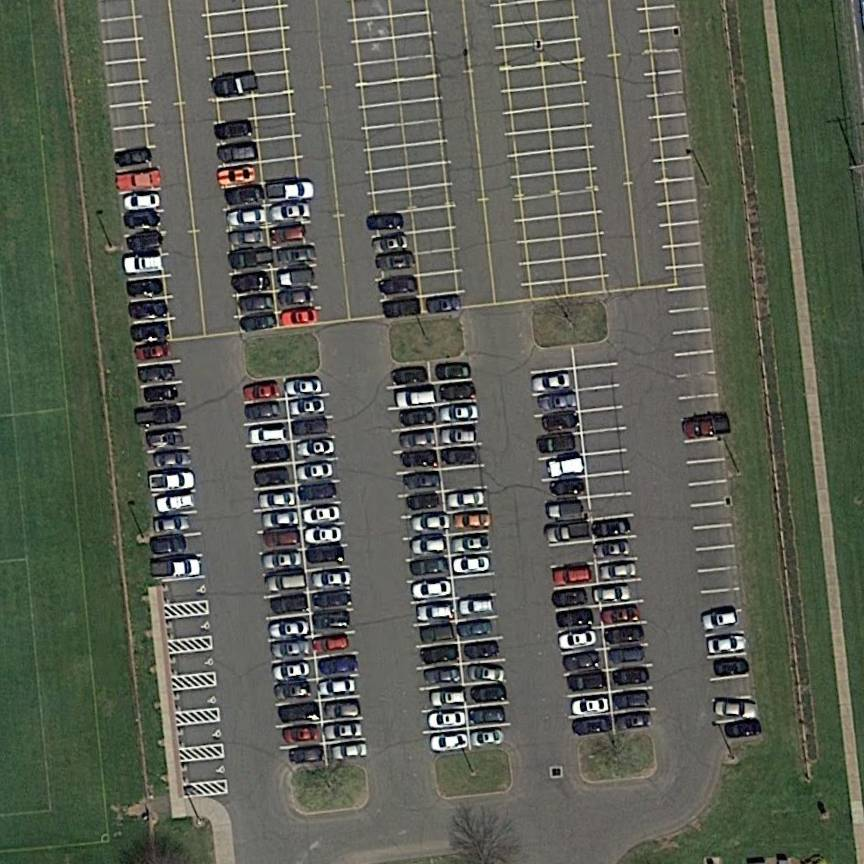small vehicle: (680, 415, 731, 440), (211, 72, 258, 98), (266, 180, 316, 202), (115, 169, 162, 191), (135, 405, 182, 427), (228, 247, 274, 269), (148, 559, 201, 578), (545, 522, 591, 543), (149, 471, 196, 491), (269, 618, 311, 640), (270, 593, 310, 615), (216, 165, 256, 187), (552, 565, 592, 587), (530, 372, 571, 393), (557, 630, 598, 651), (571, 716, 612, 737), (537, 392, 578, 413), (313, 590, 353, 611), (231, 272, 271, 293), (604, 625, 644, 646), (600, 605, 640, 626), (411, 580, 453, 600), (262, 550, 303, 570), (267, 572, 308, 592), (226, 207, 267, 227), (312, 633, 351, 654), (225, 185, 264, 206), (156, 493, 196, 513), (296, 438, 336, 458), (248, 425, 288, 445), (280, 702, 320, 722), (217, 143, 257, 163), (707, 635, 747, 655), (381, 298, 421, 318), (263, 527, 301, 548), (273, 661, 311, 682), (420, 644, 458, 665), (714, 700, 758, 718), (214, 121, 253, 141), (563, 651, 602, 671), (537, 433, 576, 453), (592, 519, 631, 539), (410, 557, 449, 577), (397, 388, 436, 408), (270, 203, 311, 222), (426, 295, 463, 316), (323, 722, 363, 741), (299, 482, 337, 502), (319, 655, 357, 675), (277, 246, 317, 265), (131, 322, 169, 342), (242, 383, 280, 403), (567, 672, 605, 692), (416, 603, 454, 623), (548, 457, 584, 478), (438, 405, 480, 423), (303, 505, 342, 524), (129, 300, 168, 319), (375, 252, 414, 271), (431, 733, 470, 752), (274, 681, 311, 701), (126, 232, 163, 252), (138, 365, 175, 385), (135, 342, 172, 362), (612, 667, 649, 687), (702, 610, 739, 630), (450, 535, 491, 553), (410, 513, 451, 531), (297, 462, 335, 481), (146, 430, 184, 449), (281, 307, 319, 326), (571, 696, 609, 715), (379, 276, 417, 295), (150, 535, 186, 555), (152, 451, 192, 469), (552, 588, 588, 608), (392, 366, 428, 386), (153, 514, 190, 533), (331, 742, 368, 761), (543, 413, 580, 432), (556, 609, 593, 628), (458, 597, 495, 616), (453, 556, 490, 575), (399, 408, 436, 427), (116, 148, 153, 167), (261, 510, 300, 528), (318, 678, 357, 696), (272, 640, 311, 658), (313, 570, 352, 588), (122, 193, 161, 211), (258, 490, 296, 508), (285, 378, 323, 396), (127, 277, 163, 296), (278, 289, 314, 308), (240, 295, 276, 314), (726, 720, 762, 739), (593, 542, 631, 560), (423, 667, 461, 685), (464, 641, 500, 660), (428, 710, 466, 728), (440, 383, 476, 402), (314, 612, 351, 630), (241, 313, 278, 331), (278, 269, 315, 287), (372, 234, 409, 252), (549, 478, 586, 496), (600, 563, 637, 581), (403, 473, 440, 491), (125, 210, 160, 229), (469, 707, 504, 726), (124, 256, 163, 273), (593, 586, 632, 603), (283, 726, 319, 744), (613, 691, 649, 709), (616, 712, 652, 730), (430, 688, 466, 706), (401, 450, 437, 468), (305, 526, 343, 543), (290, 746, 324, 765), (547, 502, 585, 519), (468, 665, 506, 682), (292, 418, 327, 436), (290, 398, 325, 416), (457, 620, 492, 638), (435, 363, 470, 381), (411, 536, 446, 554), (252, 446, 289, 463), (324, 701, 361, 718), (244, 403, 281, 420), (270, 226, 307, 243), (447, 491, 484, 508), (255, 468, 289, 486), (229, 230, 265, 247), (610, 647, 646, 664), (471, 684, 505, 702), (406, 493, 440, 511), (307, 546, 345, 562), (400, 431, 435, 448), (367, 215, 403, 231), (145, 385, 178, 402), (715, 660, 750, 676), (441, 428, 476, 444), (454, 513, 491, 528), (471, 730, 505, 746), (442, 451, 477, 464)
